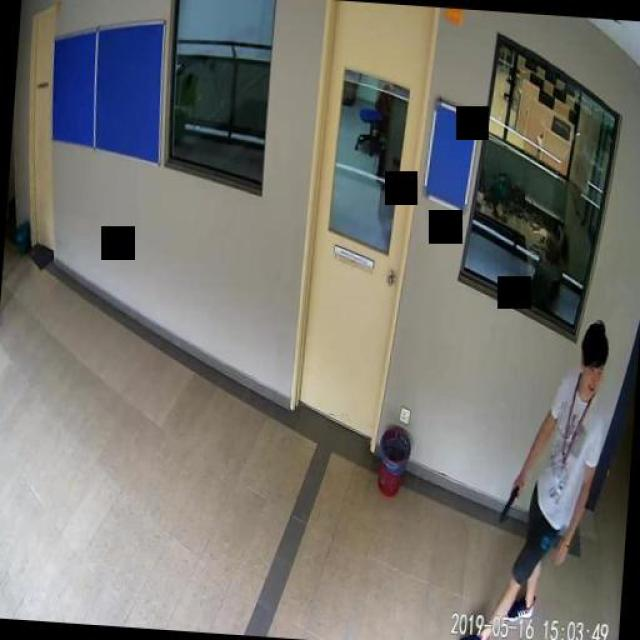gun: (500, 479, 522, 521)
